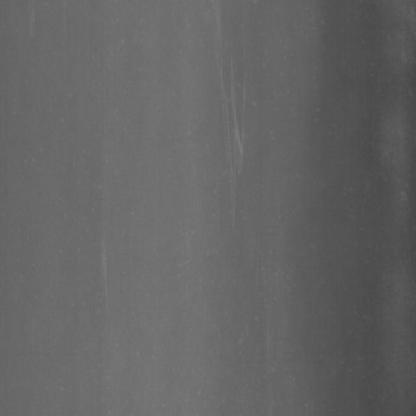silk_spot: (219, 50, 256, 202)
